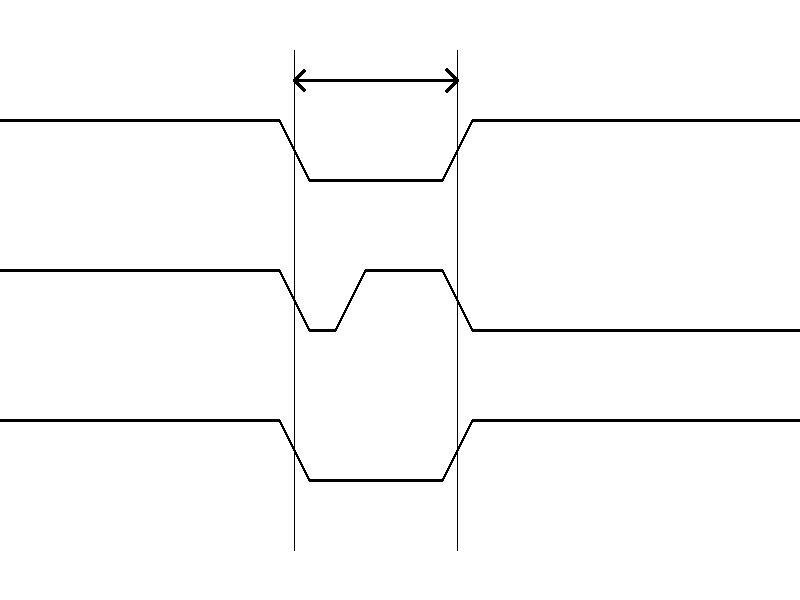double_arrow: (294, 65, 457, 95)
